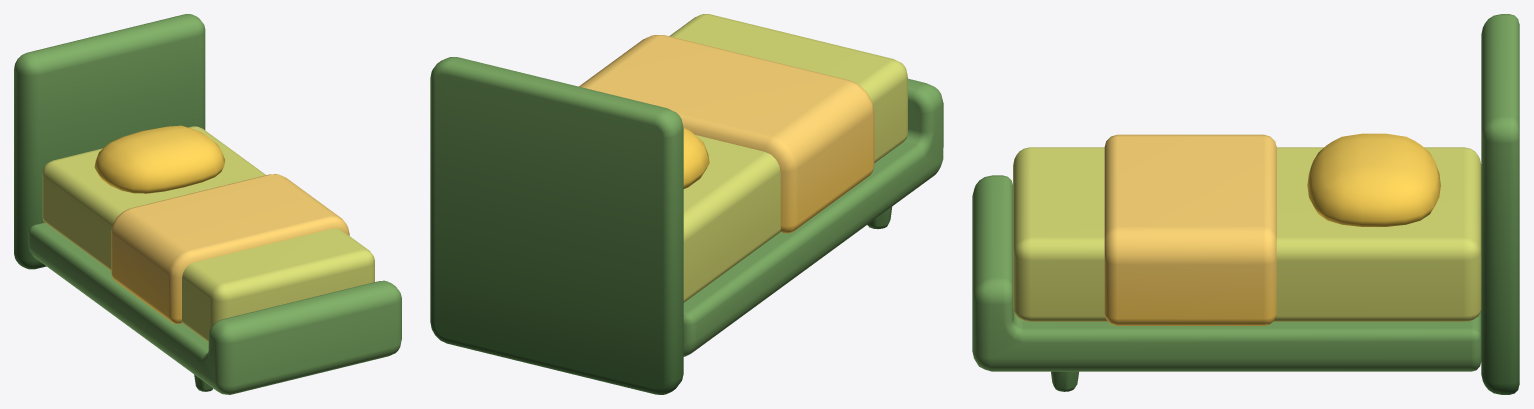
File: Bed_04.glb
The picture shows the model from 3 angles, left to right: view 1: azimuth 30°, elevation 25°; view 2: azimuth 150°, elevation 25°; view 3: azimuth 270°, elevation 25°; orthographic projection. The views are drawn at different scales.
Visible parts, largest first — view 1: Bed_04; view 2: Bed_04; view 3: Bed_04.
Part boxes in pixels (<box>): Bed_04: <box>14,14,401,394</box>; Bed_04: <box>430,14,943,394</box>; Bed_04: <box>972,14,1519,394</box>.
Size of the model in its own units: 1.09 by 1.2 by 2.15.
Materials: 1 (1 with a texture image).
